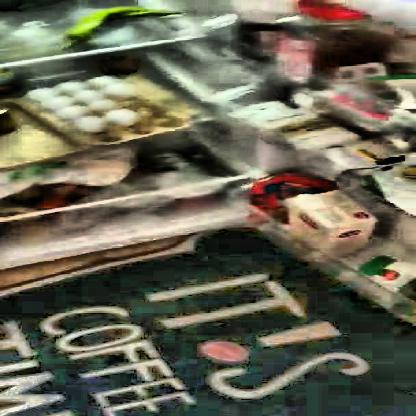eggs: (43, 76, 150, 127)
green_chillies: (66, 8, 162, 43)
milk: (290, 189, 374, 251)
